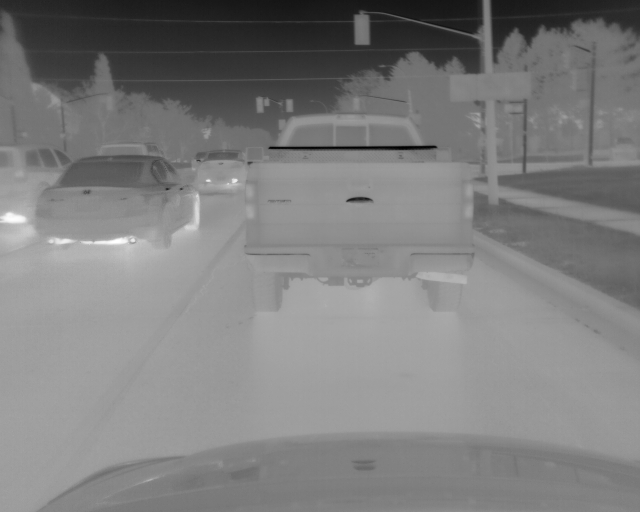car: (244, 113, 476, 313), (39, 153, 201, 246), (1, 144, 78, 247), (193, 149, 248, 193), (97, 142, 164, 162)
